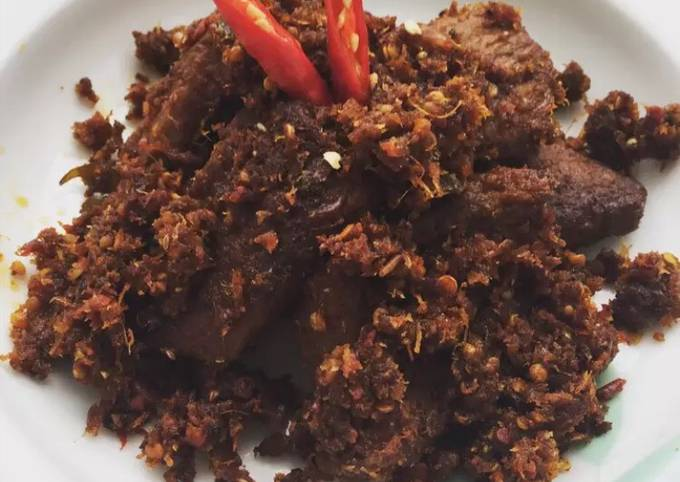rendang: (9, 9, 669, 467)
